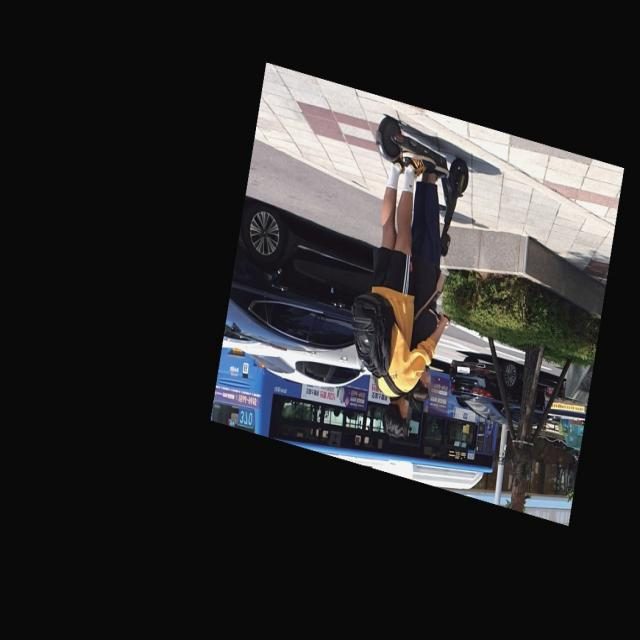bare_head: (383, 394, 410, 442), (410, 363, 434, 400)
human: (364, 148, 421, 436), (404, 157, 444, 399)
kickboard: (371, 103, 484, 200)
